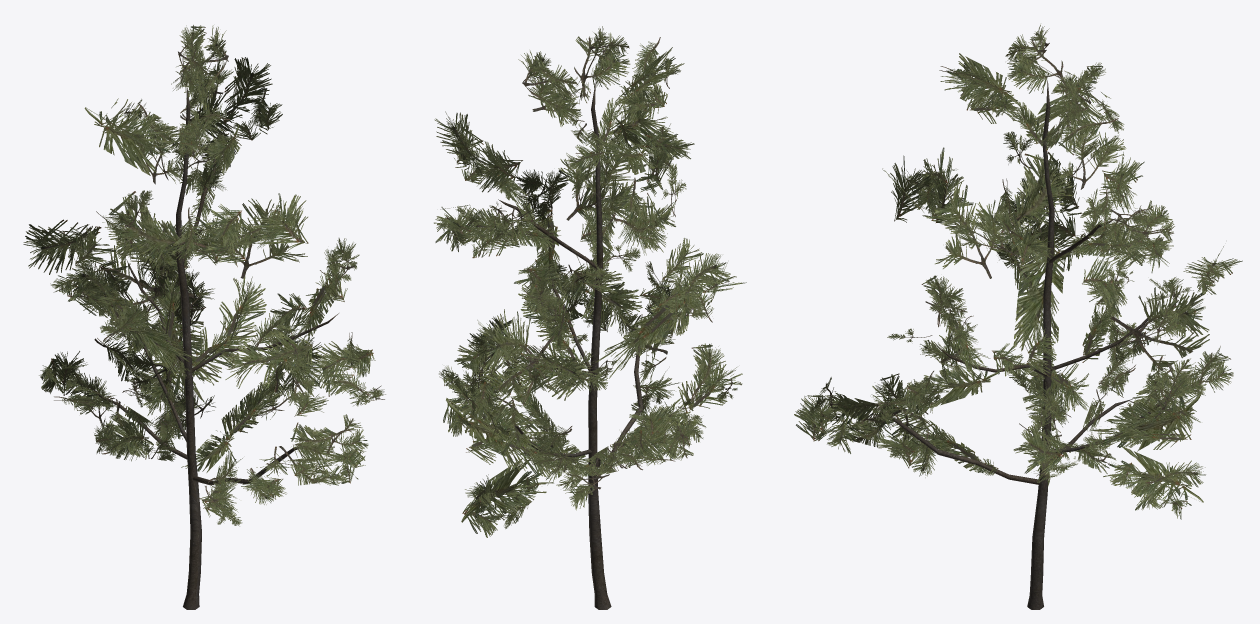
File: pine-sapling-small-b.glb
3 views of the same model, side by side, from view 1: azimuth 30°, elevation 25°; view 2: azimuth 150°, elevation 25°; view 3: azimuth 270°, elevation 25° (orthographic).
Parts seen in each view (by area): view 1: pine_sapling_small_b; view 2: pine_sapling_small_b; view 3: pine_sapling_small_b.
Boxes of the visible parts, x1,y1,x2,y2 form: pine_sapling_small_b: [23, 25, 385, 609]; pine_sapling_small_b: [434, 26, 746, 609]; pine_sapling_small_b: [794, 24, 1242, 609].
Bounding box in the file's own units: 0.5555 × 1.07 × 0.7585.
2 materials, 2 textured.
